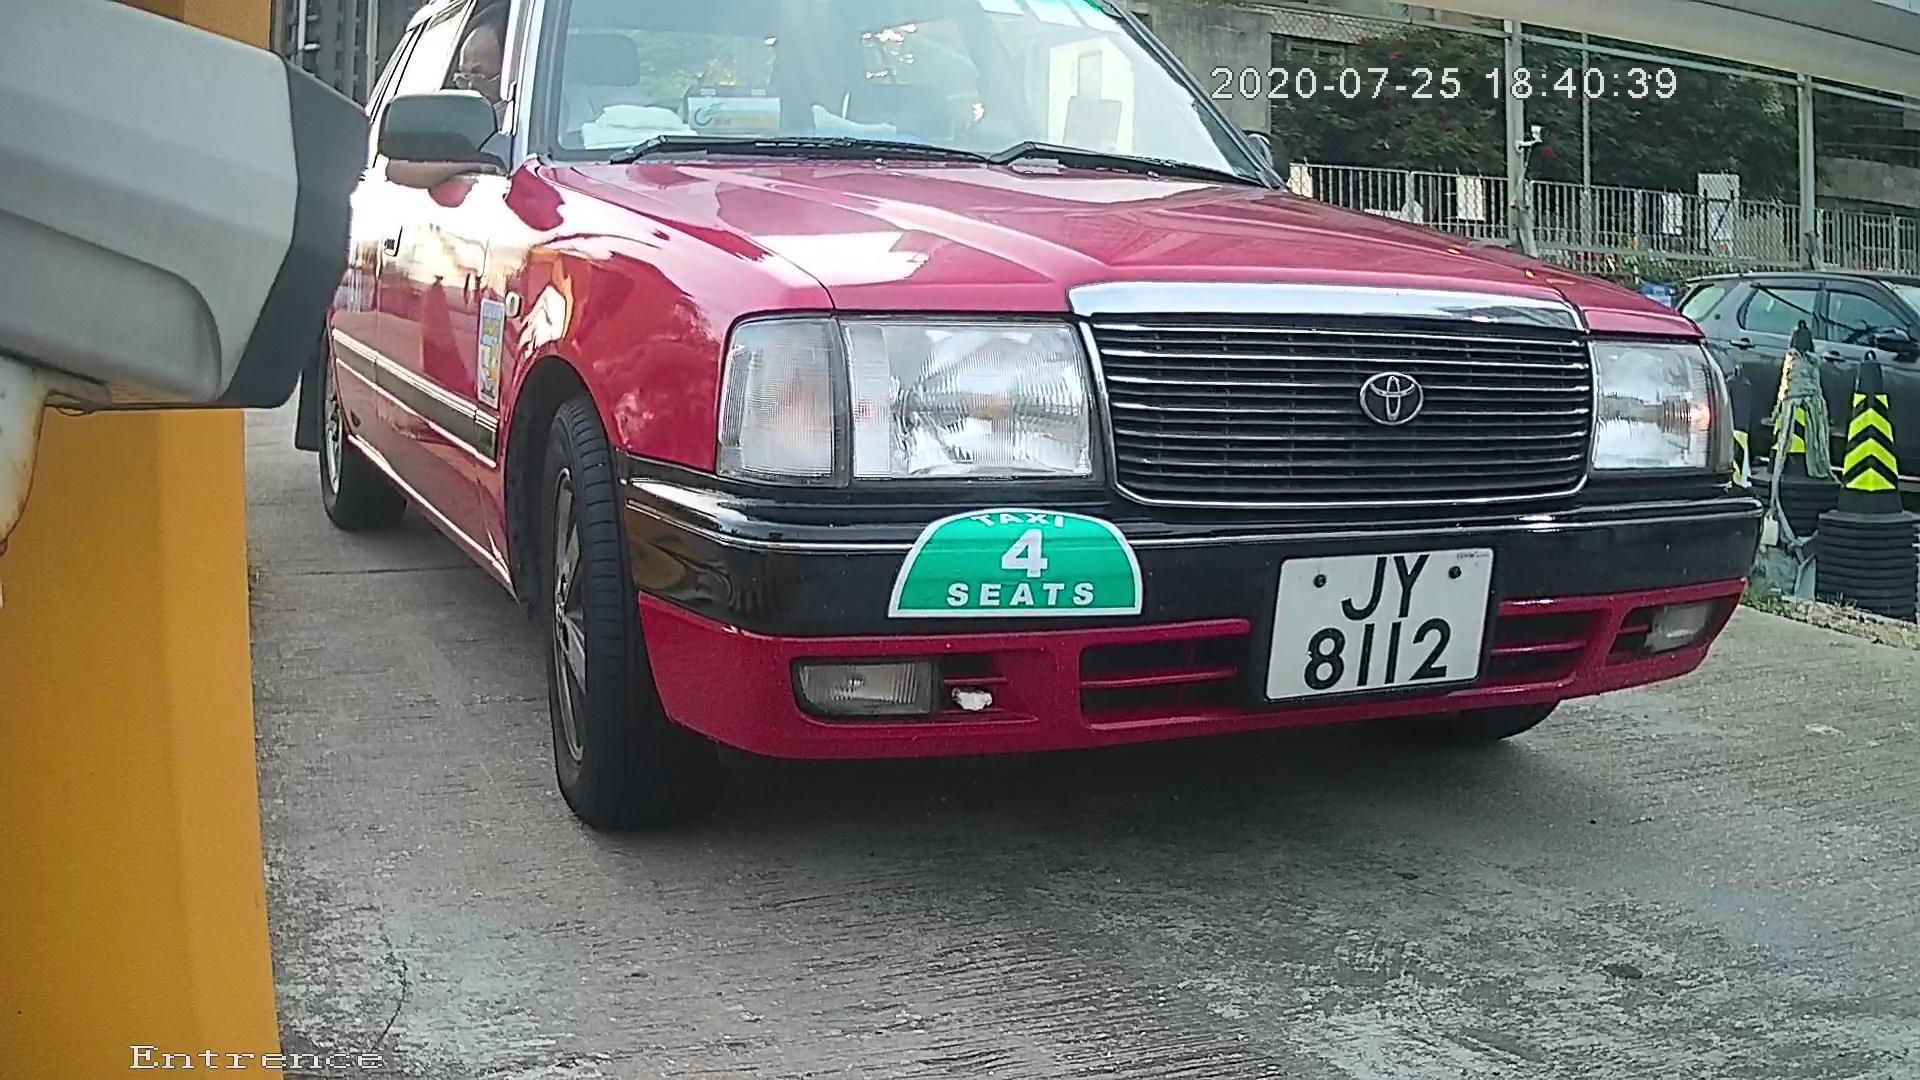taxi: (301, 34, 1783, 829)
taxi_mark: (840, 477, 1218, 647)
